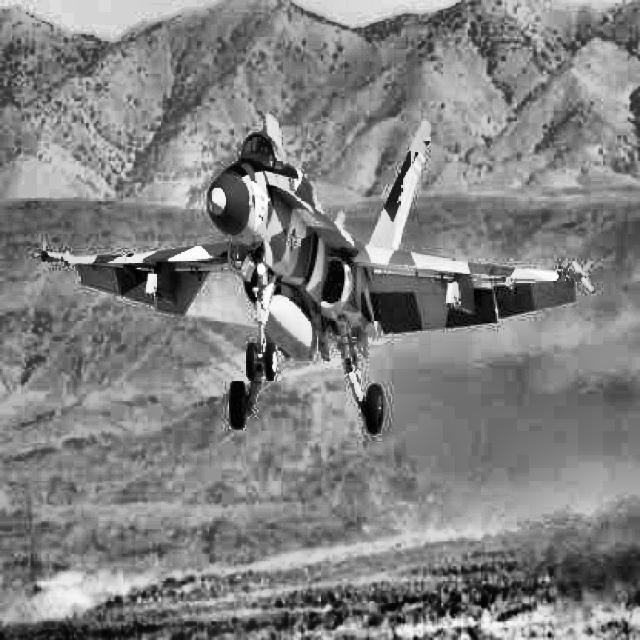F18: (34, 114, 594, 435)
